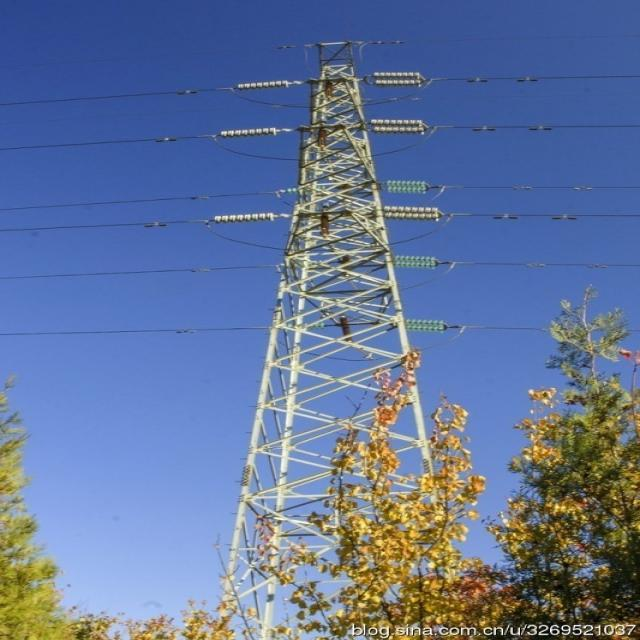non-critical vegetation: (192, 28, 474, 618)
